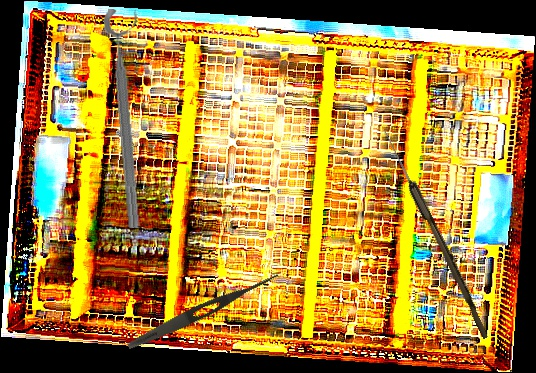Dressing Forceps: (125, 267, 281, 354)
Fixation Ring: (102, 6, 158, 230)
Surgical Spoon: (378, 127, 494, 340)
